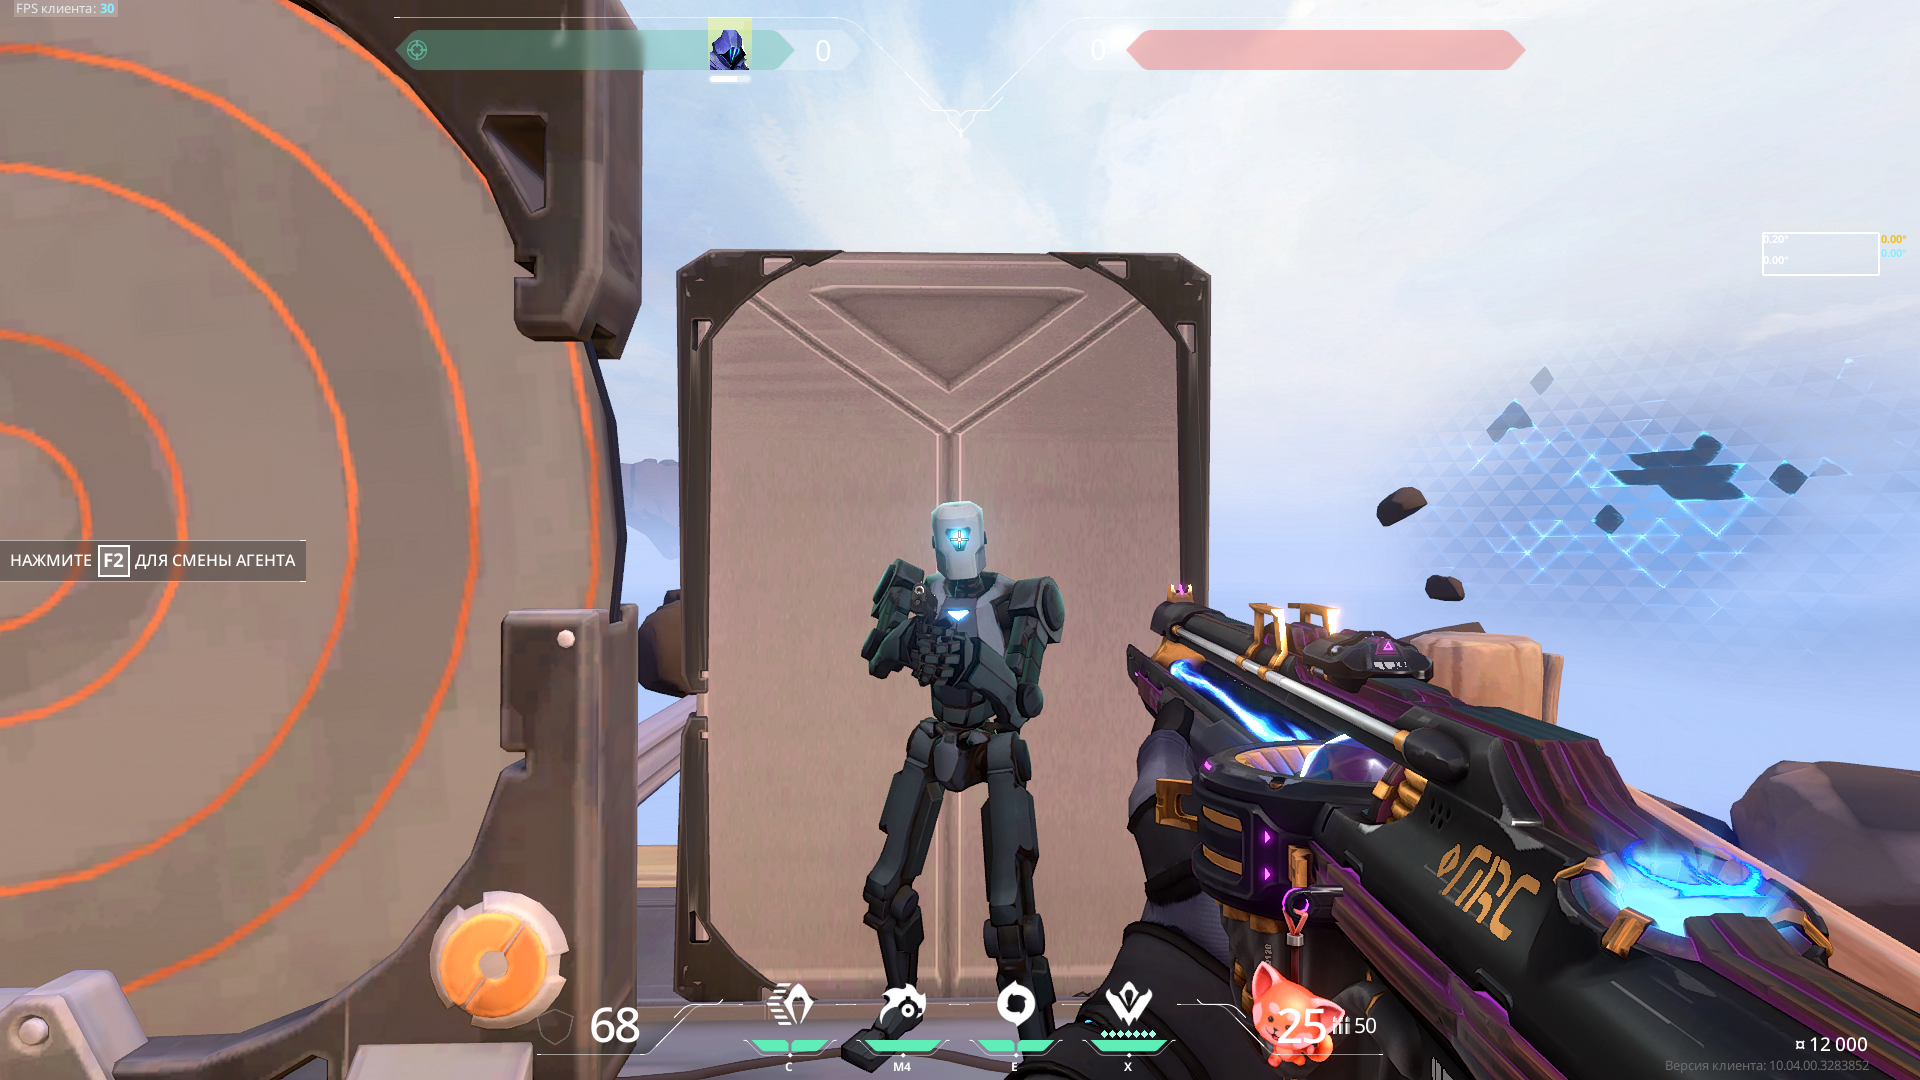head: (932, 501, 988, 580)
